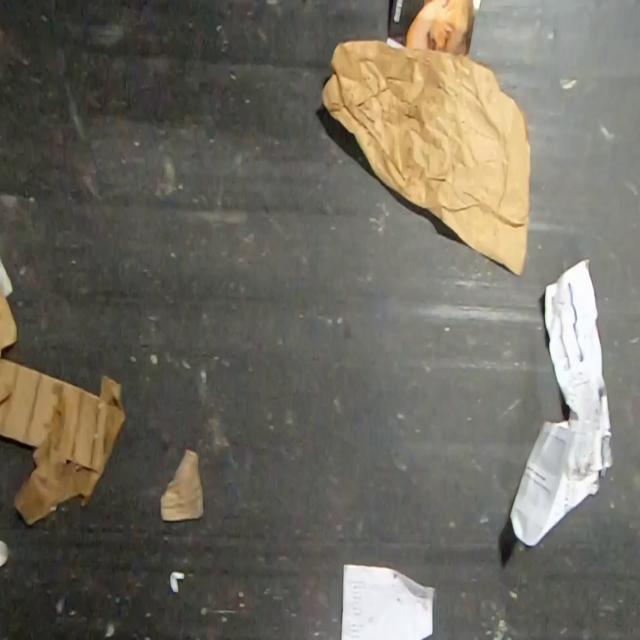cardboard: (0, 279, 128, 528), (158, 444, 205, 524)
